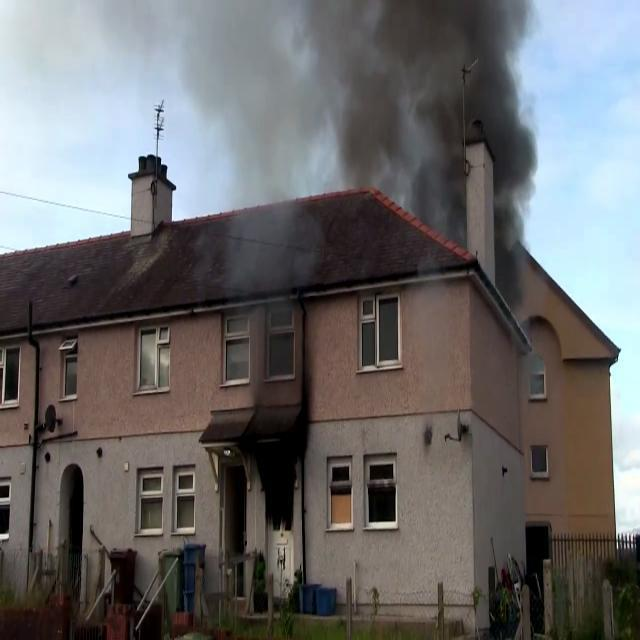Smoke: (188, 0, 359, 405), (352, 0, 537, 323)
